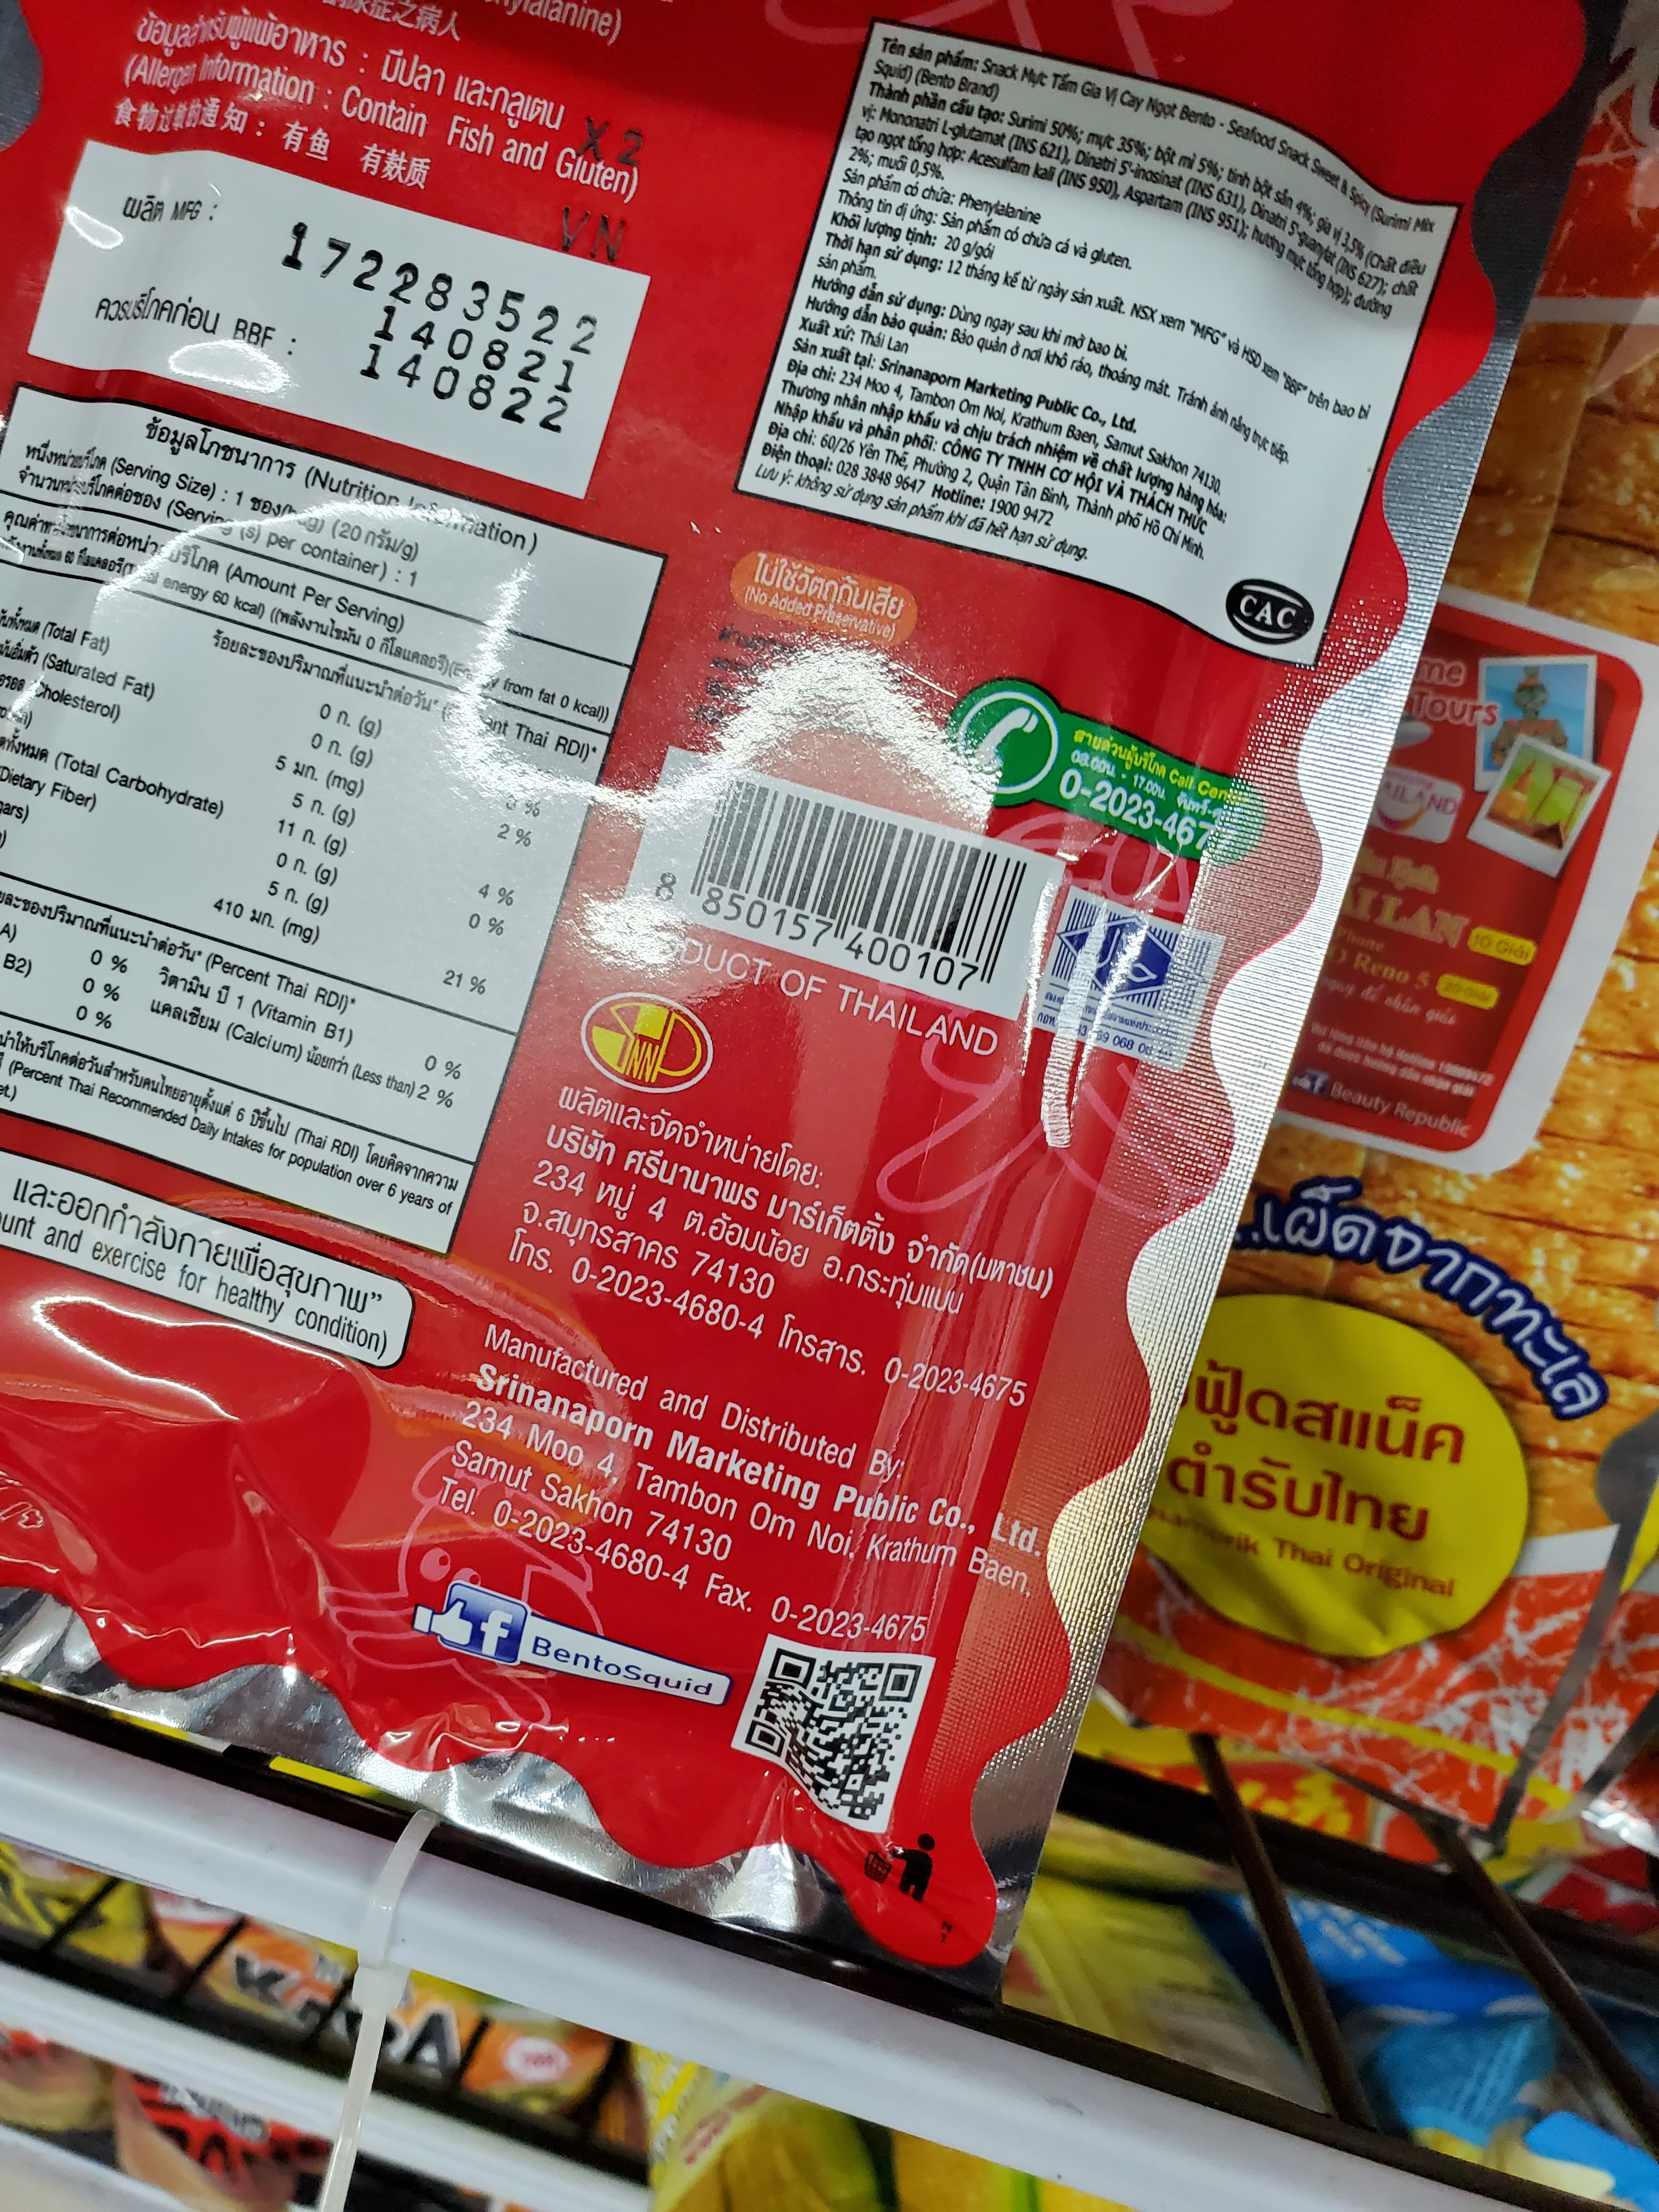barcode: (617, 756, 1073, 1042)
qr code: (725, 1622, 920, 1851)
